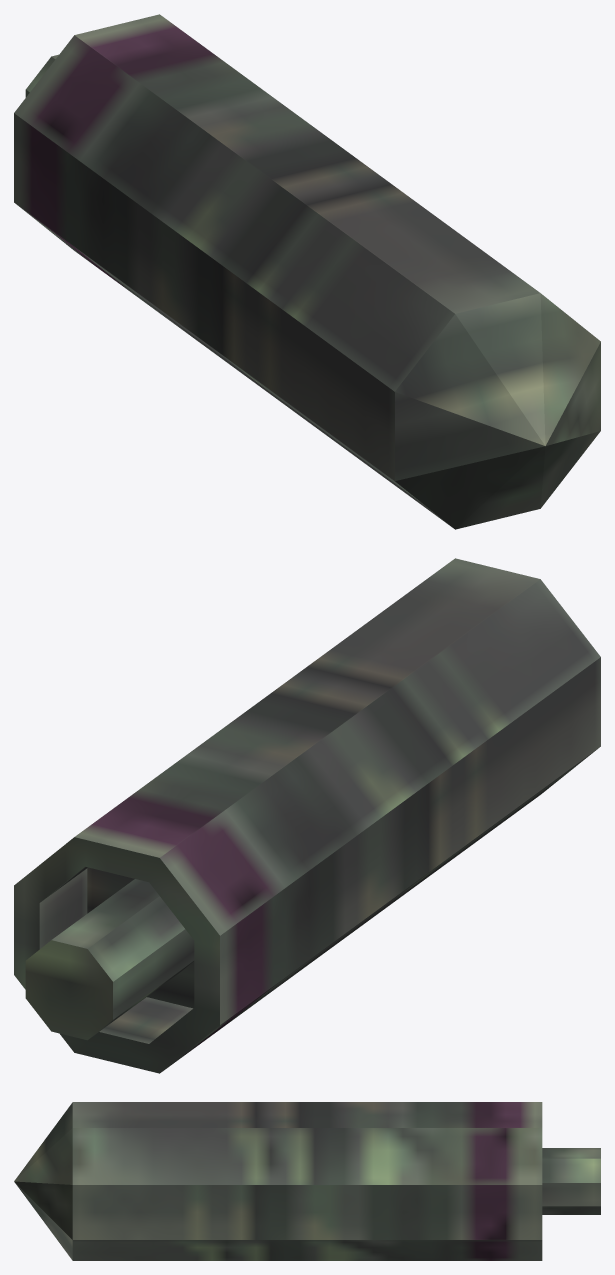
The model's file is enemy_gun.obj.
3 views of the same model, one above another, from view 1: azimuth 30°, elevation 25°; view 2: azimuth 150°, elevation 25°; view 3: azimuth 270°, elevation 25° (orthographic). The views are drawn at different scales.
Visible parts, largest first — view 1: cylinder; view 2: cylinder; view 3: cylinder.
Part boxes in pixels (x1,y1,x2,y2): cylinder: (14, 14, 600, 529); cylinder: (14, 558, 600, 1073); cylinder: (14, 1102, 600, 1260).
Size of the model in its own units: 0.3125 by 0.3125 by 1.25.
1 material, 1 textured.
